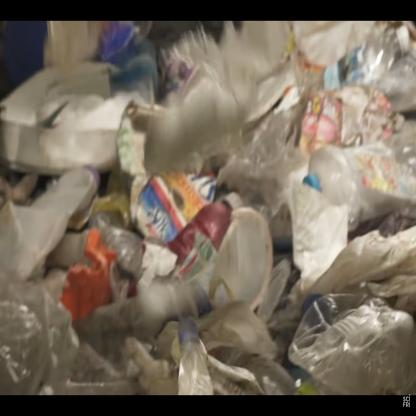Glass Bottle: (302, 144, 406, 222), (323, 25, 409, 94), (176, 315, 214, 395)
